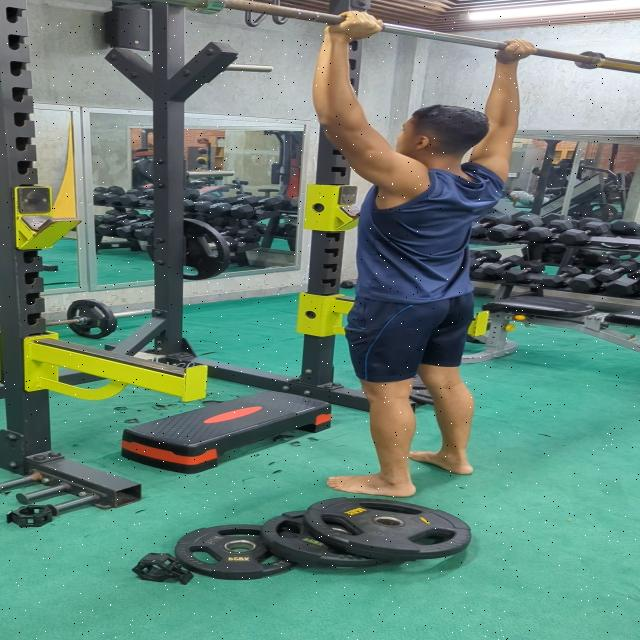Normal_OverheadPress: (279, 5, 548, 502)
